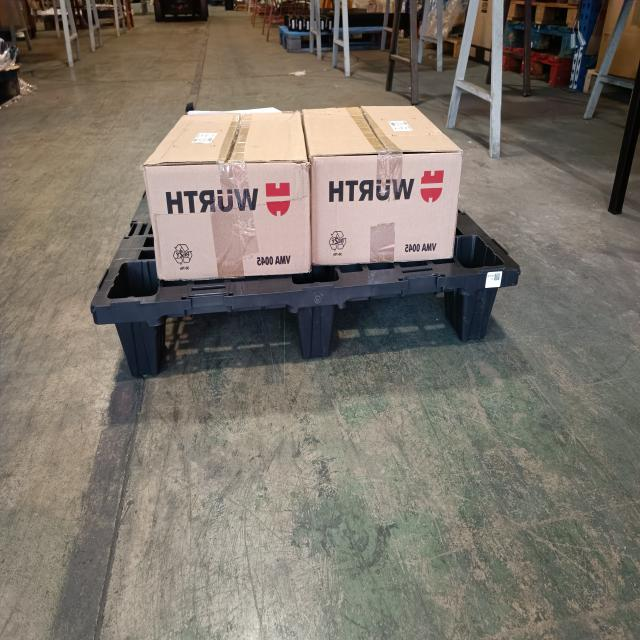block: (112, 312, 174, 386), (293, 301, 344, 364), (460, 286, 504, 342)
front: (92, 266, 529, 384)
